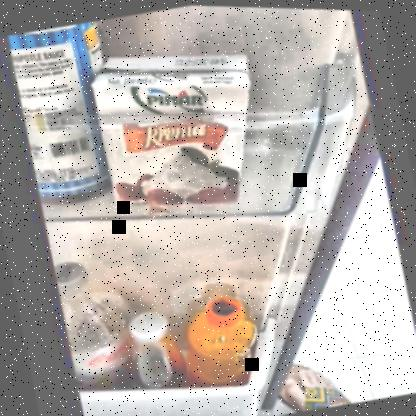heavy_cream: (88, 38, 260, 217)
